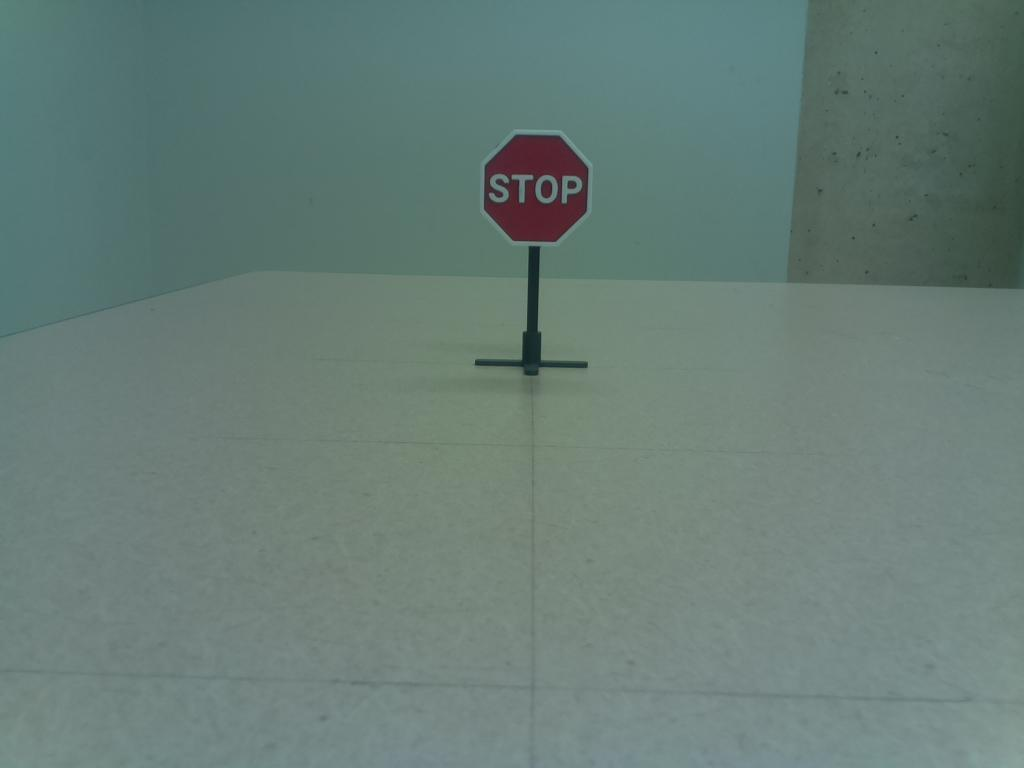sign_stop: (471, 125, 603, 251)
